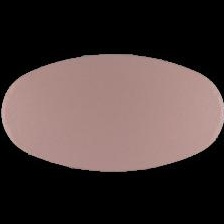63187-307: (0, 0, 224, 224)
